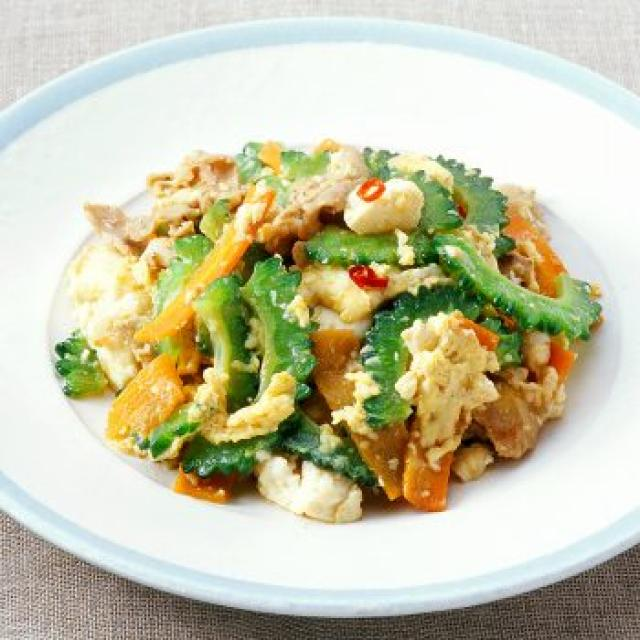熟制海鲜: (0, 6, 640, 626)
